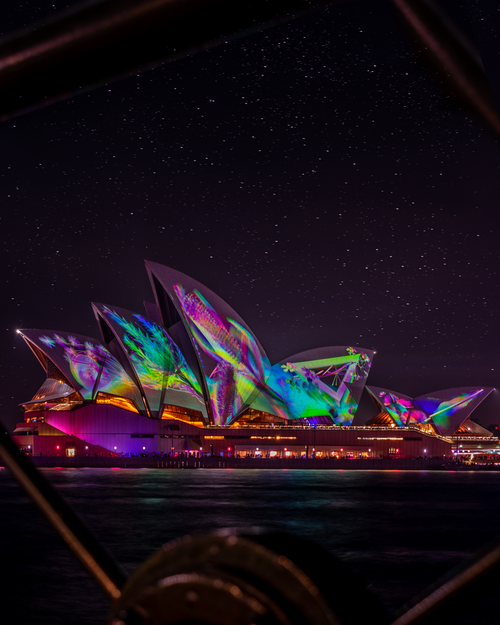opera house: (7, 244, 499, 467)
